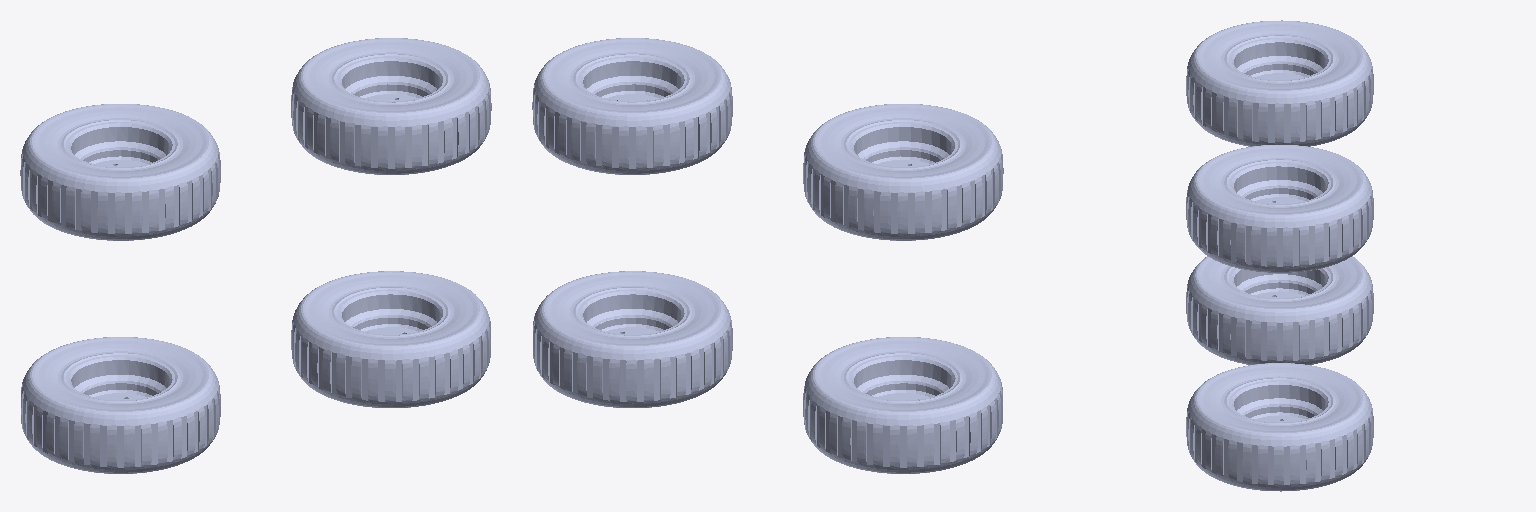
robot.urdf — WithOutGloablXYZ:
<?xml version="1.0" encoding="utf-8"?>
<!-- This URDF was automatically created by SolidWorks to URDF Exporter! Originally created by [author] ([email redacted]) 
     Commit Version: 1.6.0-1-g15f4949  Build Version: 1.6.7594.29634
     For more information, please see http://wiki.ros.org/sw_urdf_exporter -->
<robot
  name="WithOutGloablXYZ">
  <link
    name="base_link">
    <inertial>
      <origin
        xyz="0.326675511748267 0.582646663323663 0.80657764255935"
        rpy="0 0 0" />
      <mass
        value="23.7319585510482" />
      <inertia
        ixx="0.177950768229468"
        ixy="-0.0164333046927"
        ixz="-0.000215968738125238"
        iyy="0.243875338324971"
        iyz="2.26215780901091E-05"
        izz="0.320077372592746" />
    </inertial>
    <visual>
      <origin
        xyz="0 0 0"
        rpy="0 0 0" />
      <geometry>
        <mesh
          filename="package://WithOutGloablXYZ/meshes/base_link.STL" />
      </geometry>
      <material
        name="">
        <color
          rgba="0.752941176470588 0.752941176470588 0.752941176470588 1" />
      </material>
    </visual>
    <collision>
      <origin
        xyz="0 0 0"
        rpy="0 0 0" />
      <geometry>
        <mesh
          filename="package://WithOutGloablXYZ/meshes/base_link.STL" />
      </geometry>
    </collision>
  </link>
  <link
    name="left_front_wheel">
    <inertial>
      <origin
        xyz="-3.4903E-10 0.072249 6.2221E-10"
        rpy="0 0 0" />
      <mass
        value="12.163" />
      <inertia
        ixx="0.16372"
        ixy="3.111E-09"
        ixz="1.3519E-08"
        iyy="0.29557"
        iyz="9.8824E-07"
        izz="0.16372" />
    </inertial>
    <visual>
      <origin
        xyz="0 0 0"
        rpy="0 0 0" />
      <geometry>
        <mesh
          filename="package://WithOutGloablXYZ/meshes/left_front_wheel.STL" />
      </geometry>
      <material
        name="">
        <color
          rgba="0.79216 0.81961 0.93333 1" />
      </material>
    </visual>
    <collision>
      <origin
        xyz="0 0 0"
        rpy="0 0 0" />
      <geometry>
        <mesh
          filename="package://WithOutGloablXYZ/meshes/left_front_wheel.STL" />
      </geometry>
    </collision>
  </link>
  <joint
    name="left_front_axial"
    type="continuous">
    <origin
      xyz="0.011928 -0.71596 0.25183"
      rpy="1.5708 0 -2.6156" />
    <parent
      link="base_link" />
    <child
      link="left_front_wheel" />
    <axis
      xyz="0 1 0" />
  </joint>
  <link
    name="left_rear_wheel">
    <inertial>
      <origin
        xyz="-3.4903E-10 0.072249 6.2221E-10"
        rpy="0 0 0" />
      <mass
        value="12.163" />
      <inertia
        ixx="0.16372"
        ixy="3.111E-09"
        ixz="1.3519E-08"
        iyy="0.29557"
        iyz="9.8824E-07"
        izz="0.16372" />
    </inertial>
    <visual>
      <origin
        xyz="0 0 0"
        rpy="0 0 0" />
      <geometry>
        <mesh
          filename="package://WithOutGloablXYZ/meshes/left_rear_wheel.STL" />
      </geometry>
      <material
        name="">
        <color
          rgba="0.79216 0.81961 0.93333 1" />
      </material>
    </visual>
    <collision>
      <origin
        xyz="0 0 0"
        rpy="0 0 0" />
      <geometry>
        <mesh
          filename="package://WithOutGloablXYZ/meshes/left_rear_wheel.STL" />
      </geometry>
    </collision>
  </link>
  <joint
    name="left_rear_axial"
    type="continuous">
    <origin
      xyz="0.64143 -0.71596 0.25107"
      rpy="1.5708 0 -2.8897" />
    <parent
      link="base_link" />
    <child
      link="left_rear_wheel" />
    <axis
      xyz="0 1 0" />
    <mimic
      joint="left_front_axial"
      multiplier="1"
      offset="0" />
  </joint>
  <link
    name="right_rear_wheel">
    <inertial>
      <origin
        xyz="-3.4903E-10 0.072249 6.2221E-10"
        rpy="0 0 0" />
      <mass
        value="12.163" />
      <inertia
        ixx="0.16372"
        ixy="3.111E-09"
        ixz="1.3519E-08"
        iyy="0.29557"
        iyz="9.8824E-07"
        izz="0.16372" />
    </inertial>
    <visual>
      <origin
        xyz="0 0 0"
        rpy="0 0 0" />
      <geometry>
        <mesh
          filename="package://WithOutGloablXYZ/meshes/right_rear_wheel.STL" />
      </geometry>
      <material
        name="">
        <color
          rgba="0.79216 0.81961 0.93333 1" />
      </material>
    </visual>
    <collision>
      <origin
        xyz="0 0 0"
        rpy="0 0 0" />
      <geometry>
        <mesh
          filename="package://WithOutGloablXYZ/meshes/right_rear_wheel.STL" />
      </geometry>
    </collision>
  </link>
  <joint
    name="right_rear_axial"
    type="continuous">
    <origin
      xyz="0.64143 -0.71596 0.7692"
      rpy="1.5708 0 -2.6156" />
    <parent
      link="base_link" />
    <child
      link="right_rear_wheel" />
    <axis
      xyz="0 -1 0" />
    <mimic
      joint="left_front_axial"
      multiplier="1"
      offset="0" />
  </joint>
  <link
    name="right_front_wheel">
    <inertial>
      <origin
        xyz="-3.4902E-10 0.072249 6.2221E-10"
        rpy="0 0 0" />
      <mass
        value="12.163" />
      <inertia
        ixx="0.16372"
        ixy="3.111E-09"
        ixz="1.3519E-08"
        iyy="0.29557"
        iyz="9.8824E-07"
        izz="0.16372" />
    </inertial>
    <visual>
      <origin
        xyz="0 0 0"
        rpy="0 0 0" />
      <geometry>
        <mesh
          filename="package://WithOutGloablXYZ/meshes/right_front_wheel.STL" />
      </geometry>
      <material
        name="">
        <color
          rgba="0.79216 0.81961 0.93333 1" />
      </material>
    </visual>
    <collision>
      <origin
        xyz="0 0 0"
        rpy="0 0 0" />
      <geometry>
        <mesh
          filename="package://WithOutGloablXYZ/meshes/right_front_wheel.STL" />
      </geometry>
    </collision>
  </link>
  <joint
    name="right_front_axial"
    type="continuous">
    <origin
      xyz="0.011928 -0.71596 0.76996"
      rpy="1.5708 0 -0.96608" />
    <parent
      link="base_link" />
    <child
      link="right_front_wheel" />
    <axis
      xyz="0 -1 0" />
    <mimic
      joint="left_front_axial"
      multiplier="1"
      offset="0" />
  </joint>
</robot>

--- Render facts (derived) ---
3 views of the same robot in one strip: view 1: azimuth 30°, elevation 25°; view 2: azimuth 150°, elevation 25°; view 3: azimuth 270°, elevation 25° (orthographic).
Model WithOutGloablXYZ with 5 links and 4 joints (4 continuous), rooted at base_link, posed all joints at 0.
Links seen in each view (by area): view 1: right_rear_wheel, left_front_wheel, right_front_wheel, left_rear_wheel; view 2: right_rear_wheel, left_front_wheel, left_rear_wheel, right_front_wheel; view 3: right_rear_wheel, left_rear_wheel, right_front_wheel, left_front_wheel.
Link boxes in pixels (<box>): right_rear_wheel: <box>291,38,491,174</box>; left_front_wheel: <box>21,337,220,473</box>; right_front_wheel: <box>20,104,220,240</box>; left_rear_wheel: <box>291,271,490,407</box>; right_rear_wheel: <box>532,38,732,174</box>; left_front_wheel: <box>803,337,1002,473</box>; left_rear_wheel: <box>533,271,732,407</box>; right_front_wheel: <box>803,104,1003,240</box>; right_rear_wheel: <box>1186,145,1373,272</box>; left_rear_wheel: <box>1186,363,1373,491</box>; right_front_wheel: <box>1186,20,1373,146</box>; left_front_wheel: <box>1186,256,1373,364</box>.
Size in the robot's own frame: 1.03 by 0.4034 by 0.6566 metres.
Meshes: 5 distinct files referenced, 4 mesh visuals loaded (4 binary STL); not drawn: 1 (reference not matched to a file when rendering).